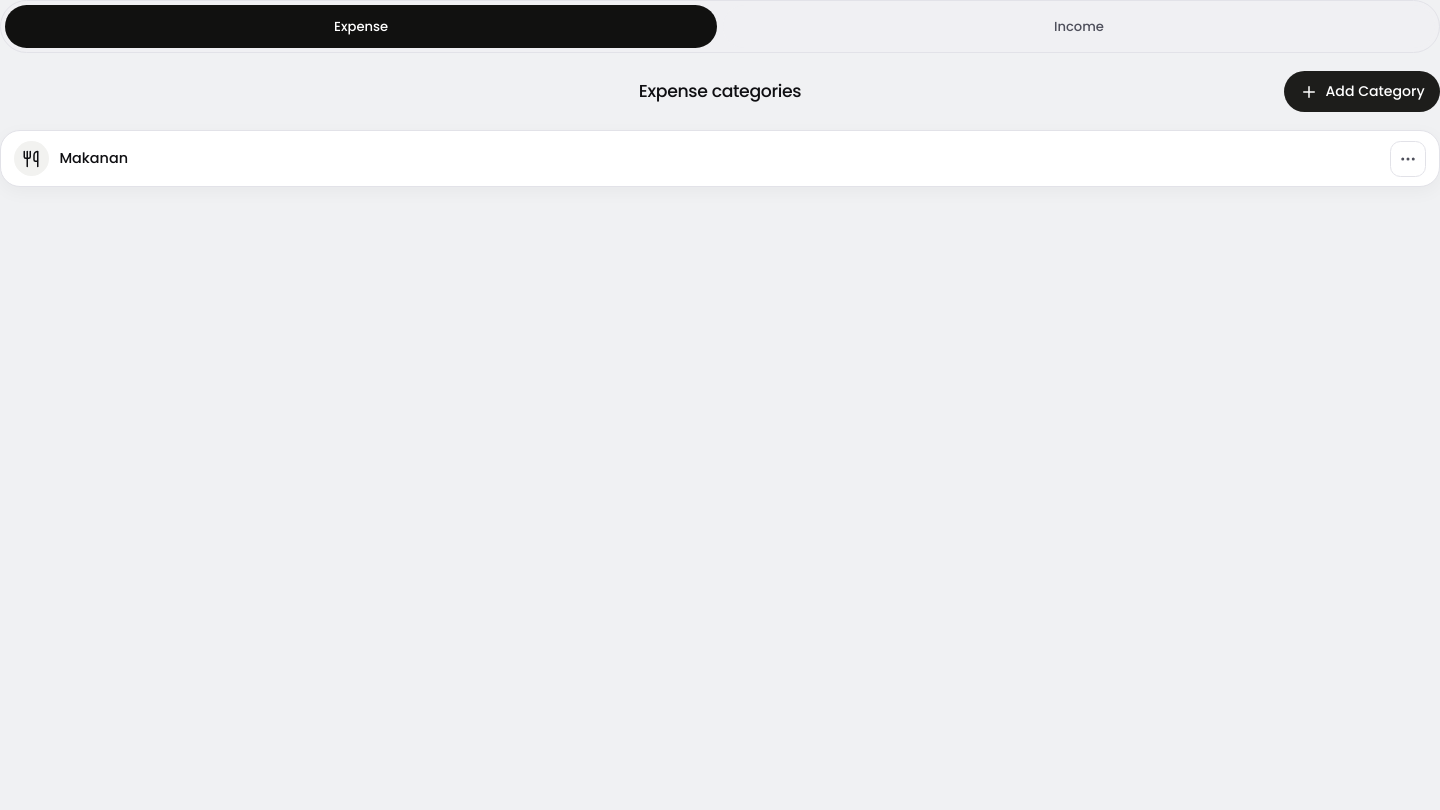
category manager › shows a permanent delete confirmation only when deletable
The image size is (1440, 810).
Click the button named "Actions for Makanan".
click(1408, 159)  # box [1390,141,1426,177]
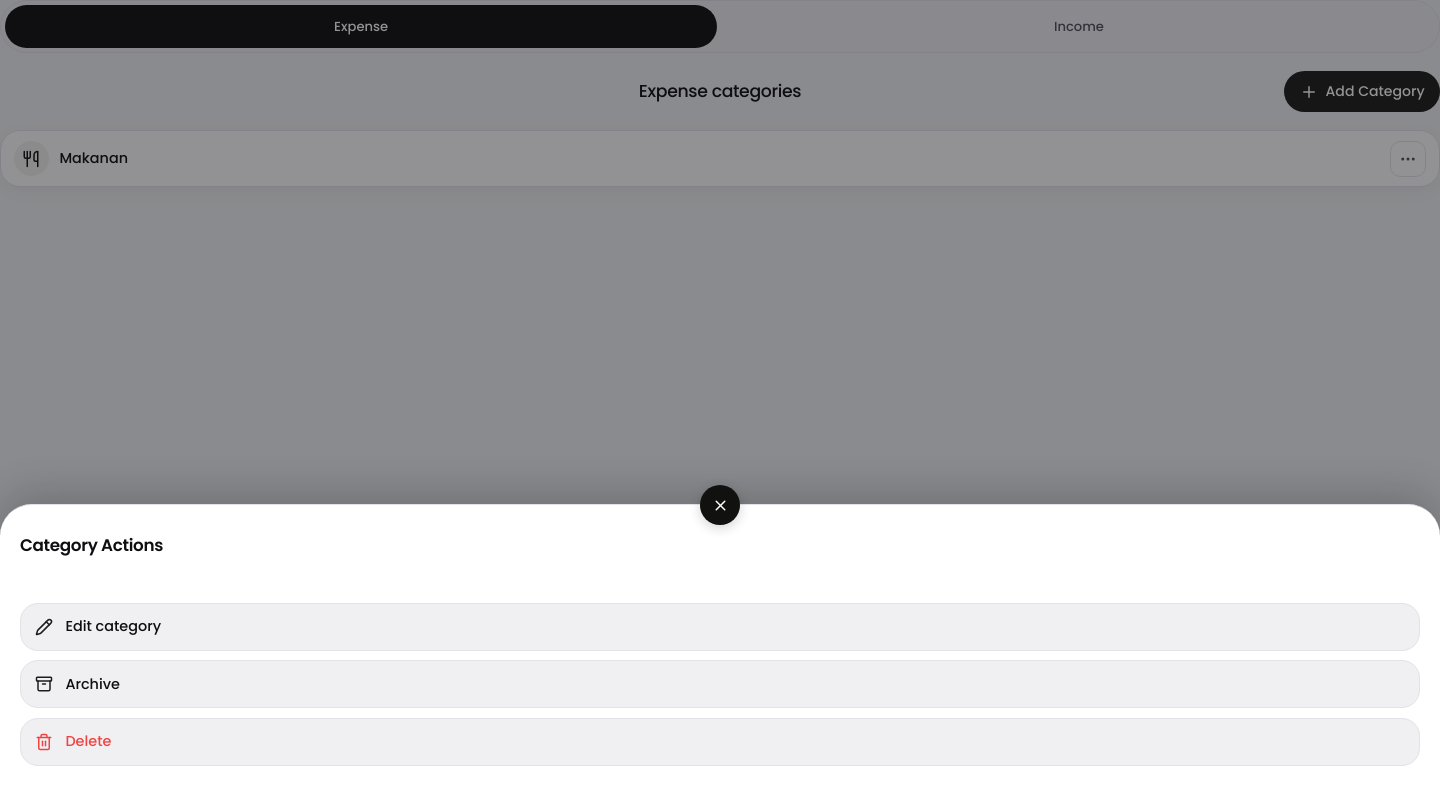
Click the button "Delete".
click(88, 741)  # box [20,718,1420,766]
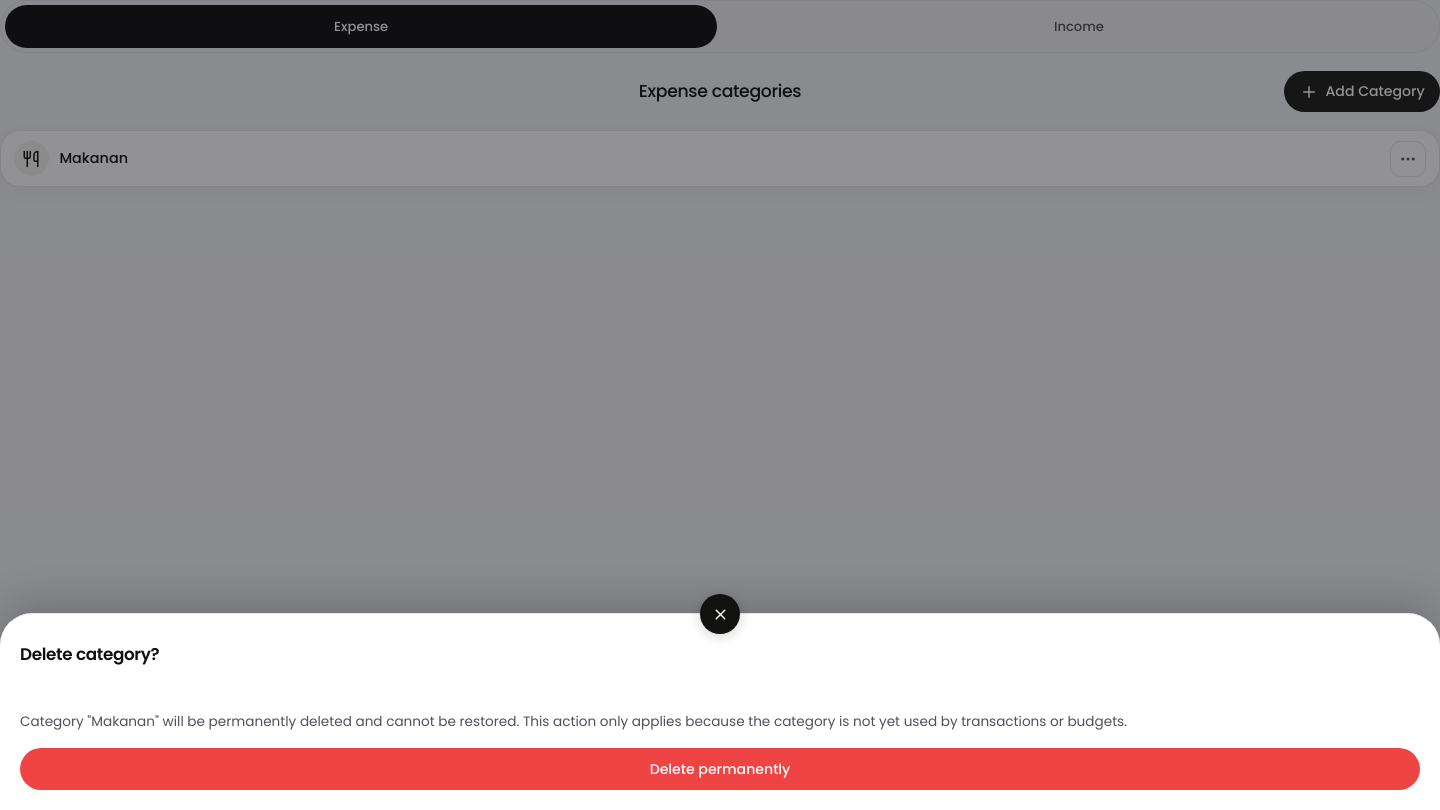
Expected: the dialog "Delete category?" is shown
Expected: the button "Delete permanently" is shown, [20,748,1420,790]
